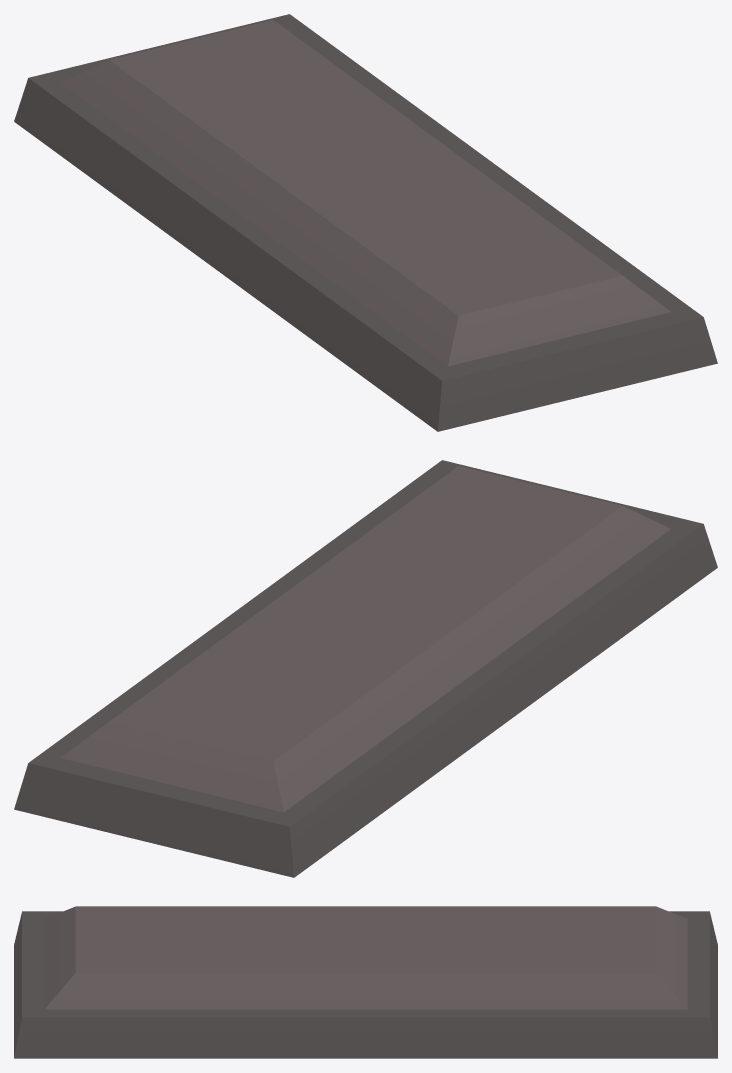
File: village_town_grave_2.glb
3 renders of one model, top to bottom at view 1: azimuth 30°, elevation 25°; view 2: azimuth 150°, elevation 25°; view 3: azimuth 270°, elevation 25°, orthographic. The views are drawn at different scales.
Parts seen in each view (by area): view 1: Grave_2.001_Material.005_0; view 2: Grave_2.001_Material.005_0; view 3: Grave_2.001_Material.005_0.
Boxes of the visible parts, box(x1,y1,x2,y2) form: Grave_2.001_Material.005_0: box(14, 14, 717, 431); Grave_2.001_Material.005_0: box(14, 460, 717, 877); Grave_2.001_Material.005_0: box(14, 906, 717, 1058).
Size of the model in its own units: 0.9095 by 0.232 by 2.38.
1 material, 1 textured.
